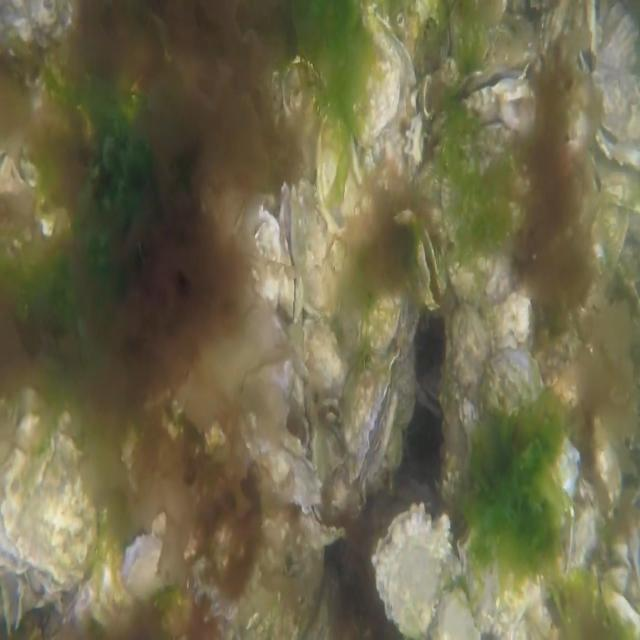Oyster-Closed: (457, 517, 544, 640), (344, 349, 400, 483), (240, 430, 323, 518), (303, 501, 348, 554)
Oyster-Indeterminate: (0, 412, 99, 590), (474, 344, 580, 501), (371, 504, 451, 639), (345, 0, 402, 153), (449, 302, 494, 466), (314, 113, 369, 243), (298, 178, 336, 318), (361, 284, 421, 366), (446, 237, 517, 300), (303, 316, 350, 408), (0, 0, 74, 58), (122, 512, 165, 598), (591, 198, 628, 278), (598, 156, 640, 213)
Oyster-Open: (590, 0, 640, 167), (450, 65, 538, 156), (245, 207, 282, 312), (278, 182, 302, 322), (278, 382, 312, 460), (416, 228, 444, 312), (573, 0, 598, 78)
